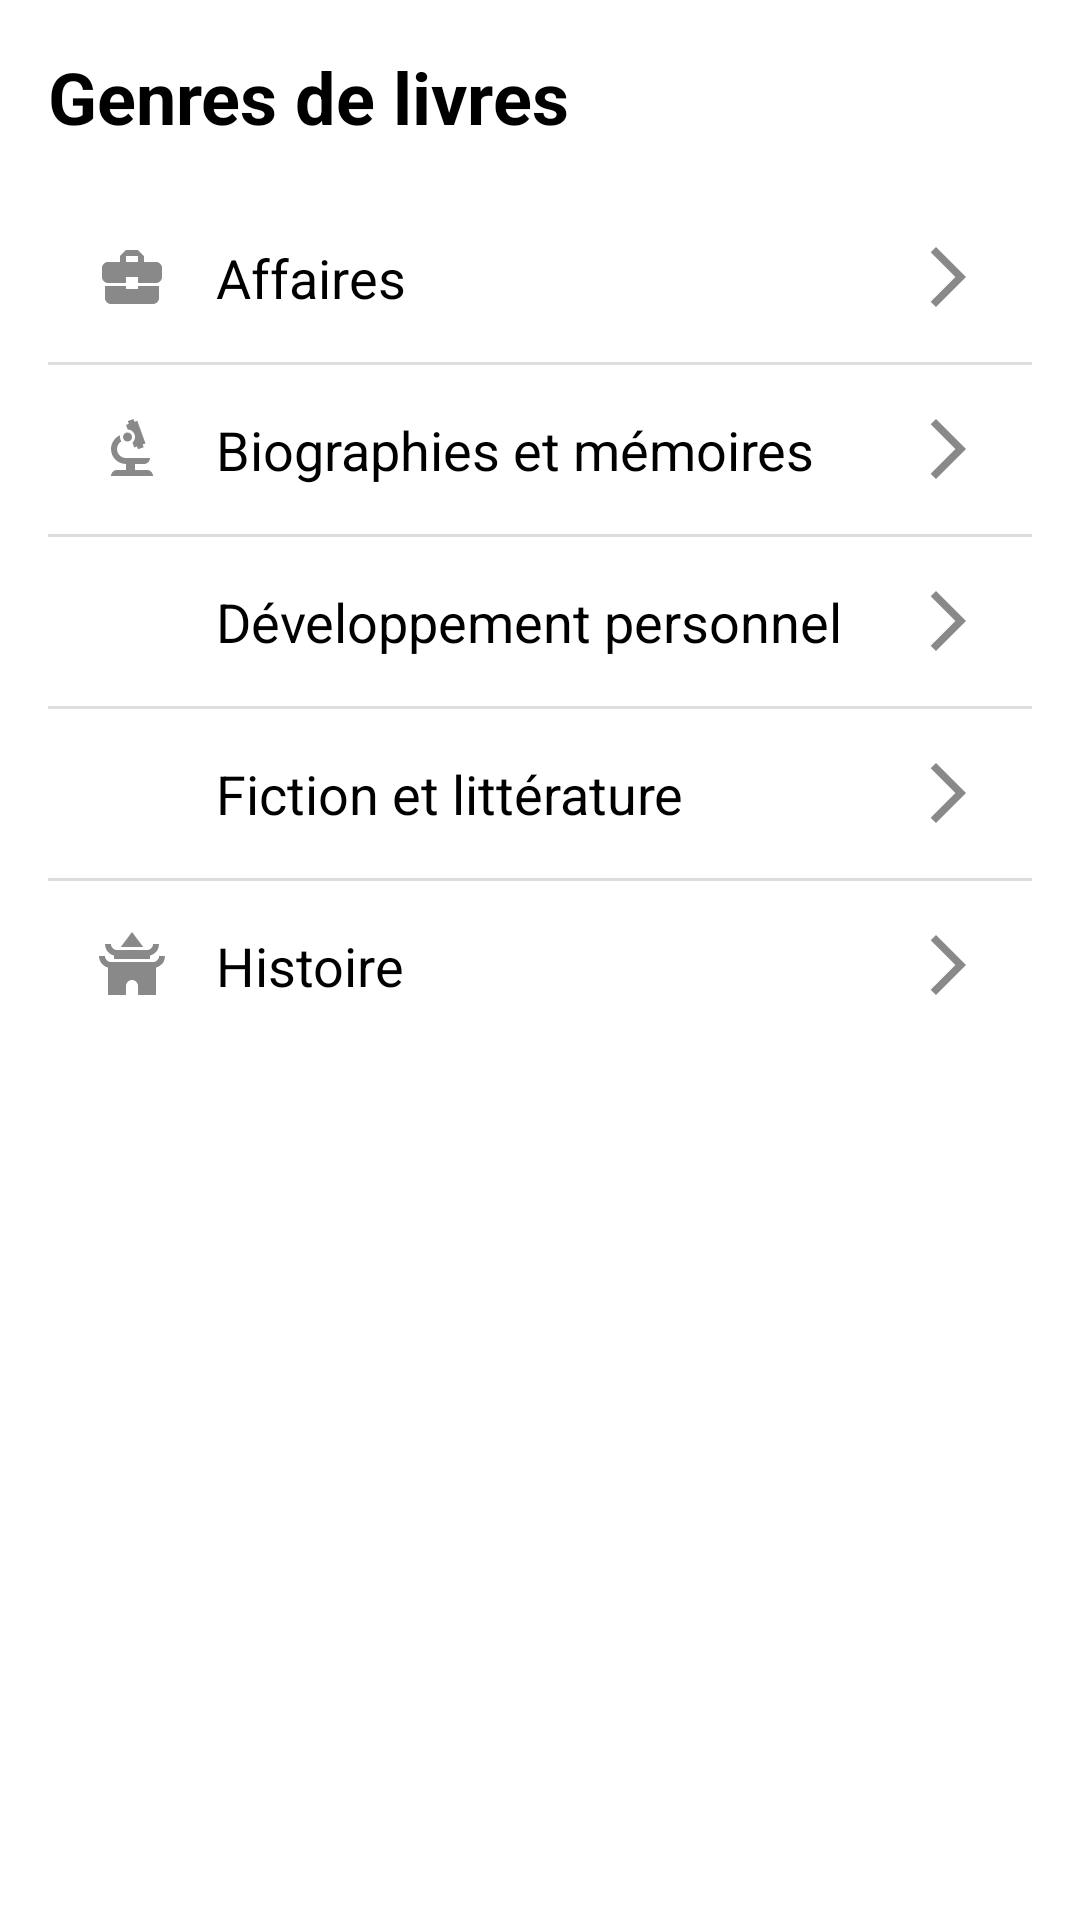

Named icons in this screenshot (1080px x 1920px) and their centers, point (x, y):
business: point (132, 277)
history: point (132, 963)
